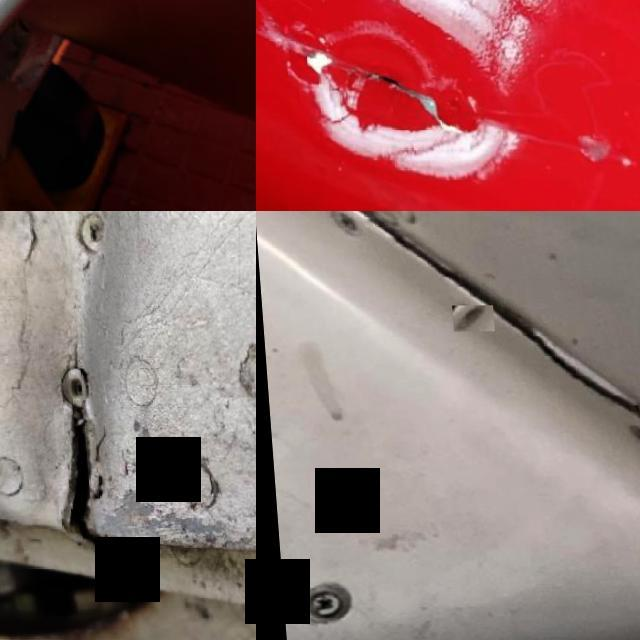Crack: (256, 34, 563, 163), (23, 390, 133, 554), (479, 317, 640, 429)
Missing_Fastener: (450, 306, 492, 332)
